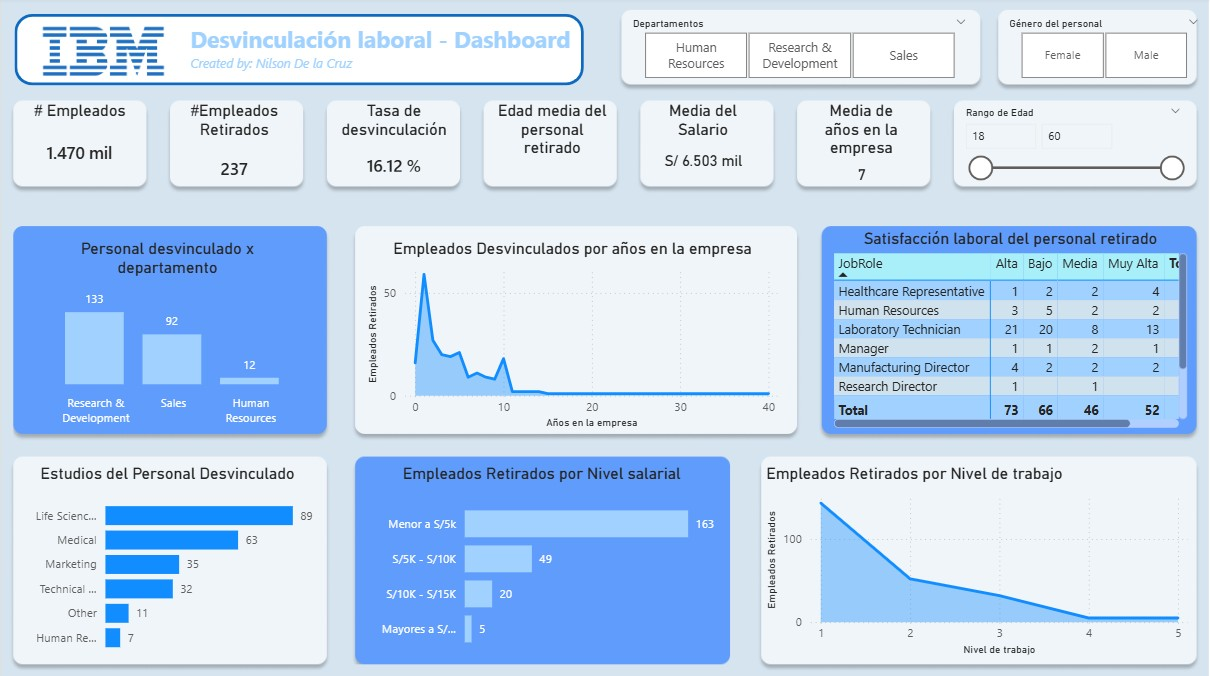

The dashboard page shown, as its layout file describes it:
{"tool":"powerbi","page":{"name":"IBM Headcount","canvas":[1280,720],"ordinal":0},"visuals":[{"type":"image","box":[0,0,1269.5,719.8],"z":0},{"type":"cardVisual","title":"# Empleados","fields":{"Data":["_Medidas.# Empleados"]},"box":[17.3,110.3,130.7,86.6],"z":1000},{"type":"cardVisual","title":"#Empleados Retirados","fields":{"Data":["_Medidas.Empleados Retirados"]},"box":[174.8,110.3,140.2,97.7],"z":2000},{"type":"cardVisual","title":"Tasa de desvinculación","fields":{"Data":["_Medidas.Tasa de desvinculacion"]},"box":[343.4,110.3,138.6,91.4],"z":3000},{"type":"cardVisual","title":"Edad media del personal retirado","fields":{"Data":["_Medidas.Edad Media de los Retirados"]},"box":[507.2,110.3,143.3,91.4],"z":4000},{"type":"card","title":"Media del Salario","fields":{"Values":["_Medidas.Media del Salario"]},"box":[675.7,110.3,122.9,85.1],"z":5000},{"type":"card","title":"Media de años en la empresa","fields":{"Values":["_Medidas.Media de anios en la empresa"]},"box":[841.1,110.3,124.4,85.1],"z":6000},{"type":"slicer","fields":{"Values":["h_empleado.Age"]},"box":[1000.2,110.3,250.4,86.6],"z":7000},{"type":"clusteredColumnChart","title":"Personal desvinculado x departamento","fields":{"Y":["_Medidas.Empleados Retirados"],"Category":["d_organizacion.Department"]},"box":[17.3,255.2,315,203.2],"z":8000},{"type":"areaChart","title":"Empleados Desvinculados por años en la empresa","fields":{"Category":["h_empleado.YearsAtCompany"],"Y":["_Medidas.Empleados Retirados"]},"box":[379.6,255.2,441,203.2],"z":9000},{"type":"pivotTable","title":"Satisfacción laboral del personal retirado","fields":{"Rows":["d_organizacion.JobRole"],"Columns":["d_satisfaccion.JobSatisfaction"],"Values":["_Medidas.Empleados Retirados"]},"box":[869.4,244.1,381.2,214.2],"z":10000},{"type":"clusteredBarChart","title":"Estudios del Personal Desvinculado","fields":{"Category":["d_demografia.EducationField"],"Y":["_Medidas.Empleados Retirados"]},"box":[17.3,491.4,315,207.9],"z":11000},{"type":"clusteredBarChart","fields":{"Category":["h_empleado.Nivel salarial"],"Y":["_Medidas.Empleados Retirados"]},"box":[379.6,491.4,376.4,207.9],"z":12000},{"type":"areaChart","title":"Empleados Retirados por Nivel de trabajo","fields":{"Category":["d_organizacion.JobLevel"],"Y":["_Medidas.Empleados Retirados"]},"box":[798.6,491.4,452,204.8],"z":13000},{"type":"slicer","fields":{"Values":["d_organizacion.Department"]},"box":[650.5,17.3,374.9,75.6],"z":14000},{"type":"slicer","fields":{"Values":["d_demografia.Gender"]},"box":[1045.9,17.3,223.7,75.6],"z":15000},{"type":"shape","box":[13.6,18.2,597.7,75],"z":15500},{"type":"image","box":[18.2,29.1,177.3,59.1],"z":16000},{"type":"textbox","box":[194.4,24.3,428.2,68.7],"z":18000}]}

Visuals, with their boxes in screenshot pixels (x1, y1, x2, y2), scaled from the page's 1280x720 canvas onto the 1210x676 screenshot:
image: {"x1": 0, "y1": 0, "x2": 1200, "y2": 675}
"# Empleados" cardVisual: {"x1": 16, "y1": 104, "x2": 140, "y2": 185}
"#Empleados Retirados" cardVisual: {"x1": 165, "y1": 104, "x2": 298, "y2": 195}
"Tasa de desvinculación" cardVisual: {"x1": 325, "y1": 104, "x2": 456, "y2": 189}
"Edad media del personal retirado" cardVisual: {"x1": 479, "y1": 104, "x2": 615, "y2": 189}
"Media del Salario" card: {"x1": 639, "y1": 104, "x2": 755, "y2": 183}
"Media de años en la empresa" card: {"x1": 795, "y1": 104, "x2": 913, "y2": 183}
slicer - h_empleado.Age: {"x1": 946, "y1": 104, "x2": 1182, "y2": 185}
"Personal desvinculado x departamento" clusteredColumnChart: {"x1": 16, "y1": 240, "x2": 314, "y2": 430}
"Empleados Desvinculados por años en la empresa" areaChart: {"x1": 359, "y1": 240, "x2": 776, "y2": 430}
"Satisfacción laboral del personal retirado" pivotTable: {"x1": 822, "y1": 229, "x2": 1182, "y2": 430}
"Estudios del Personal Desvinculado" clusteredBarChart: {"x1": 16, "y1": 461, "x2": 314, "y2": 657}
clusteredBarChart - h_empleado.Nivel salarial x _Medidas.Empleados Retirados: {"x1": 359, "y1": 461, "x2": 715, "y2": 657}
"Empleados Retirados por Nivel de trabajo" areaChart: {"x1": 755, "y1": 461, "x2": 1182, "y2": 654}
slicer - d_organizacion.Department: {"x1": 615, "y1": 16, "x2": 969, "y2": 87}
slicer - d_demografia.Gender: {"x1": 989, "y1": 16, "x2": 1200, "y2": 87}
shape: {"x1": 13, "y1": 17, "x2": 578, "y2": 88}
image: {"x1": 17, "y1": 27, "x2": 185, "y2": 83}
textbox: {"x1": 184, "y1": 23, "x2": 589, "y2": 87}
